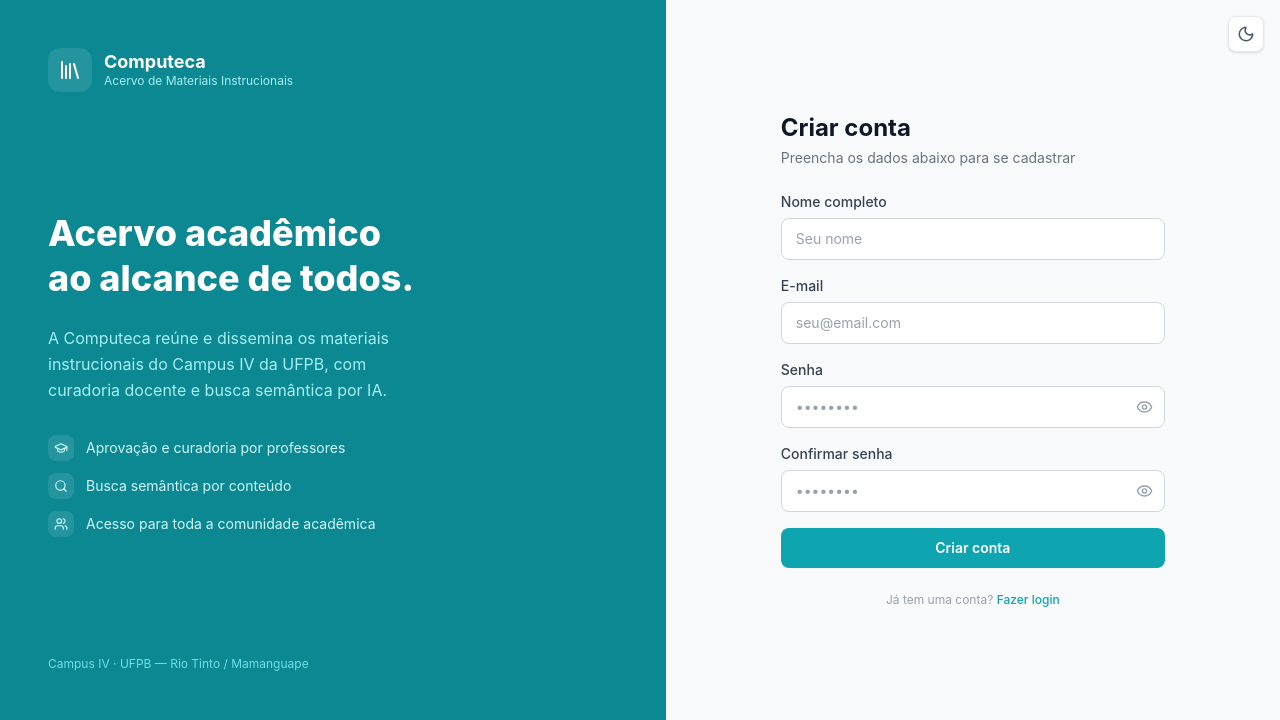
RegisterPage › detecta e-mail institucional
The width and height of the screenshot is (1280, 720).
Type "joao@dcx.ufpb.br" into the field labelled "E-mail" at (973, 323), box [781,302,1165,344]
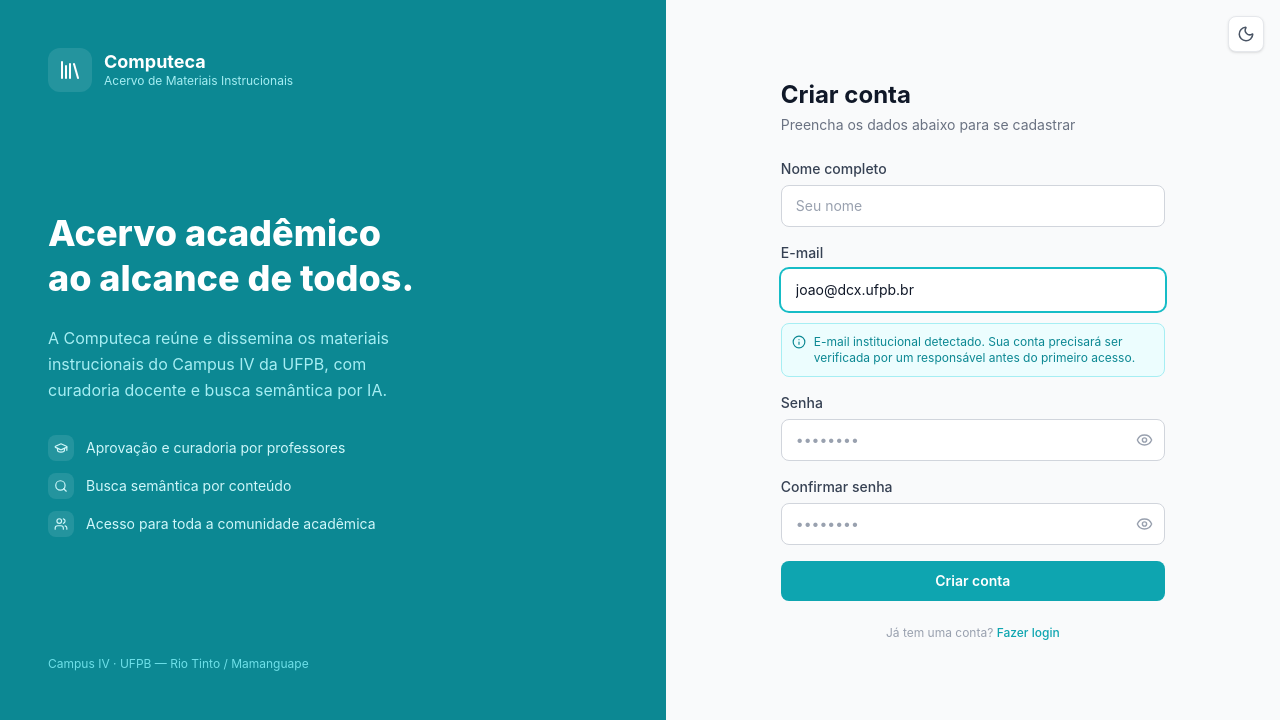
Result: the text "E-mail institucional detectado" is shown at [814,334,1135,365]
